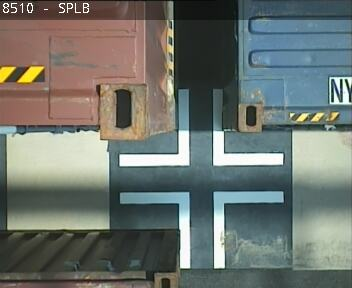groundmarker_1: (118, 90, 282, 167), (119, 191, 283, 268)
